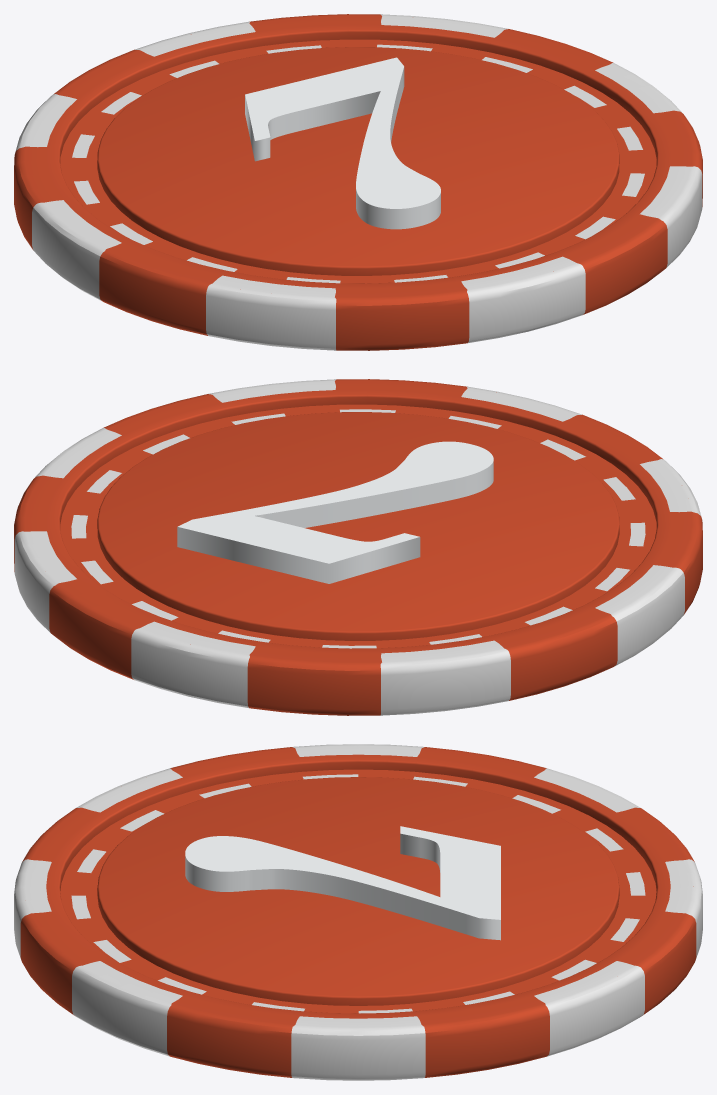
Rendered from 7_coin.glb.
3 renders of one model, top to bottom at view 1: azimuth 30°, elevation 25°; view 2: azimuth 150°, elevation 25°; view 3: azimuth 270°, elevation 25°, orthographic.
Parts seen in each view (by area): view 1: Chip.005, Text.008; view 2: Chip.005, Text.008; view 3: Chip.005, Text.008.
Boxes of the visible parts, <box> form: Chip.005: <box>14,14,702,350</box>; Text.008: <box>245,57,440,229</box>; Chip.005: <box>14,379,702,715</box>; Text.008: <box>177,441,493,583</box>; Chip.005: <box>14,744,702,1080</box>; Text.008: <box>185,826,500,940</box>.
Bounding box in the file's own units: 5.28 × 0.8 × 5.28.
